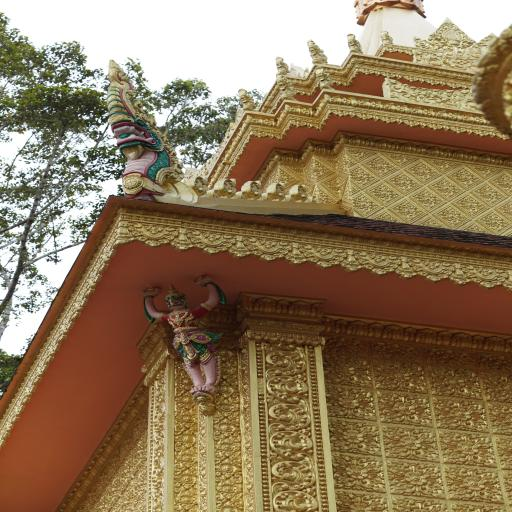ran: (76, 52, 190, 199)
than: (114, 269, 257, 415)
